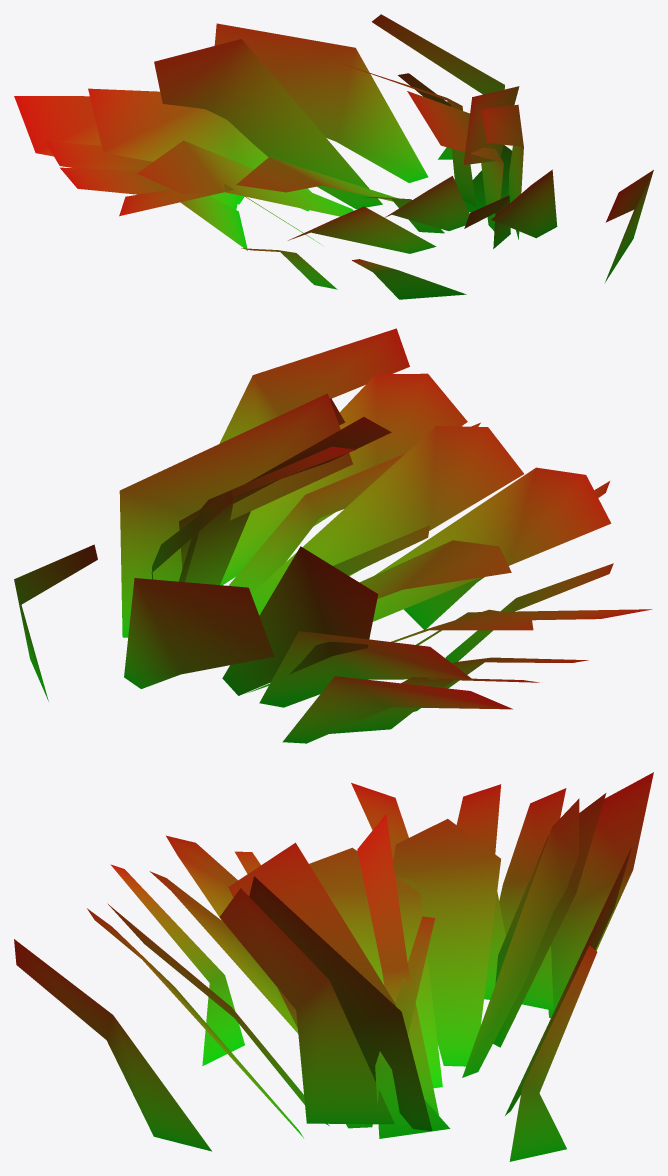
File: Wild Grass_LOD2_Var14_vczndjqja.fbx
3 views of the same model, one above another, from view 1: azimuth 30°, elevation 25°; view 2: azimuth 150°, elevation 25°; view 3: azimuth 270°, elevation 25° (orthographic). The views are drawn at different scales.
Parts seen in each view (by area): view 1: _w3kt_Var14_LOD2; view 2: _w3kt_Var14_LOD2; view 3: _w3kt_Var14_LOD2.
Boxes of the visible parts, left/top/right/bottom form: _w3kt_Var14_LOD2: left=14, top=14, right=653, bottom=299; _w3kt_Var14_LOD2: left=14, top=328, right=652, bottom=743; _w3kt_Var14_LOD2: left=14, top=772, right=653, bottom=1161.
Bounding box in the file's own units: 23.19 × 9.66 × 23.78.
